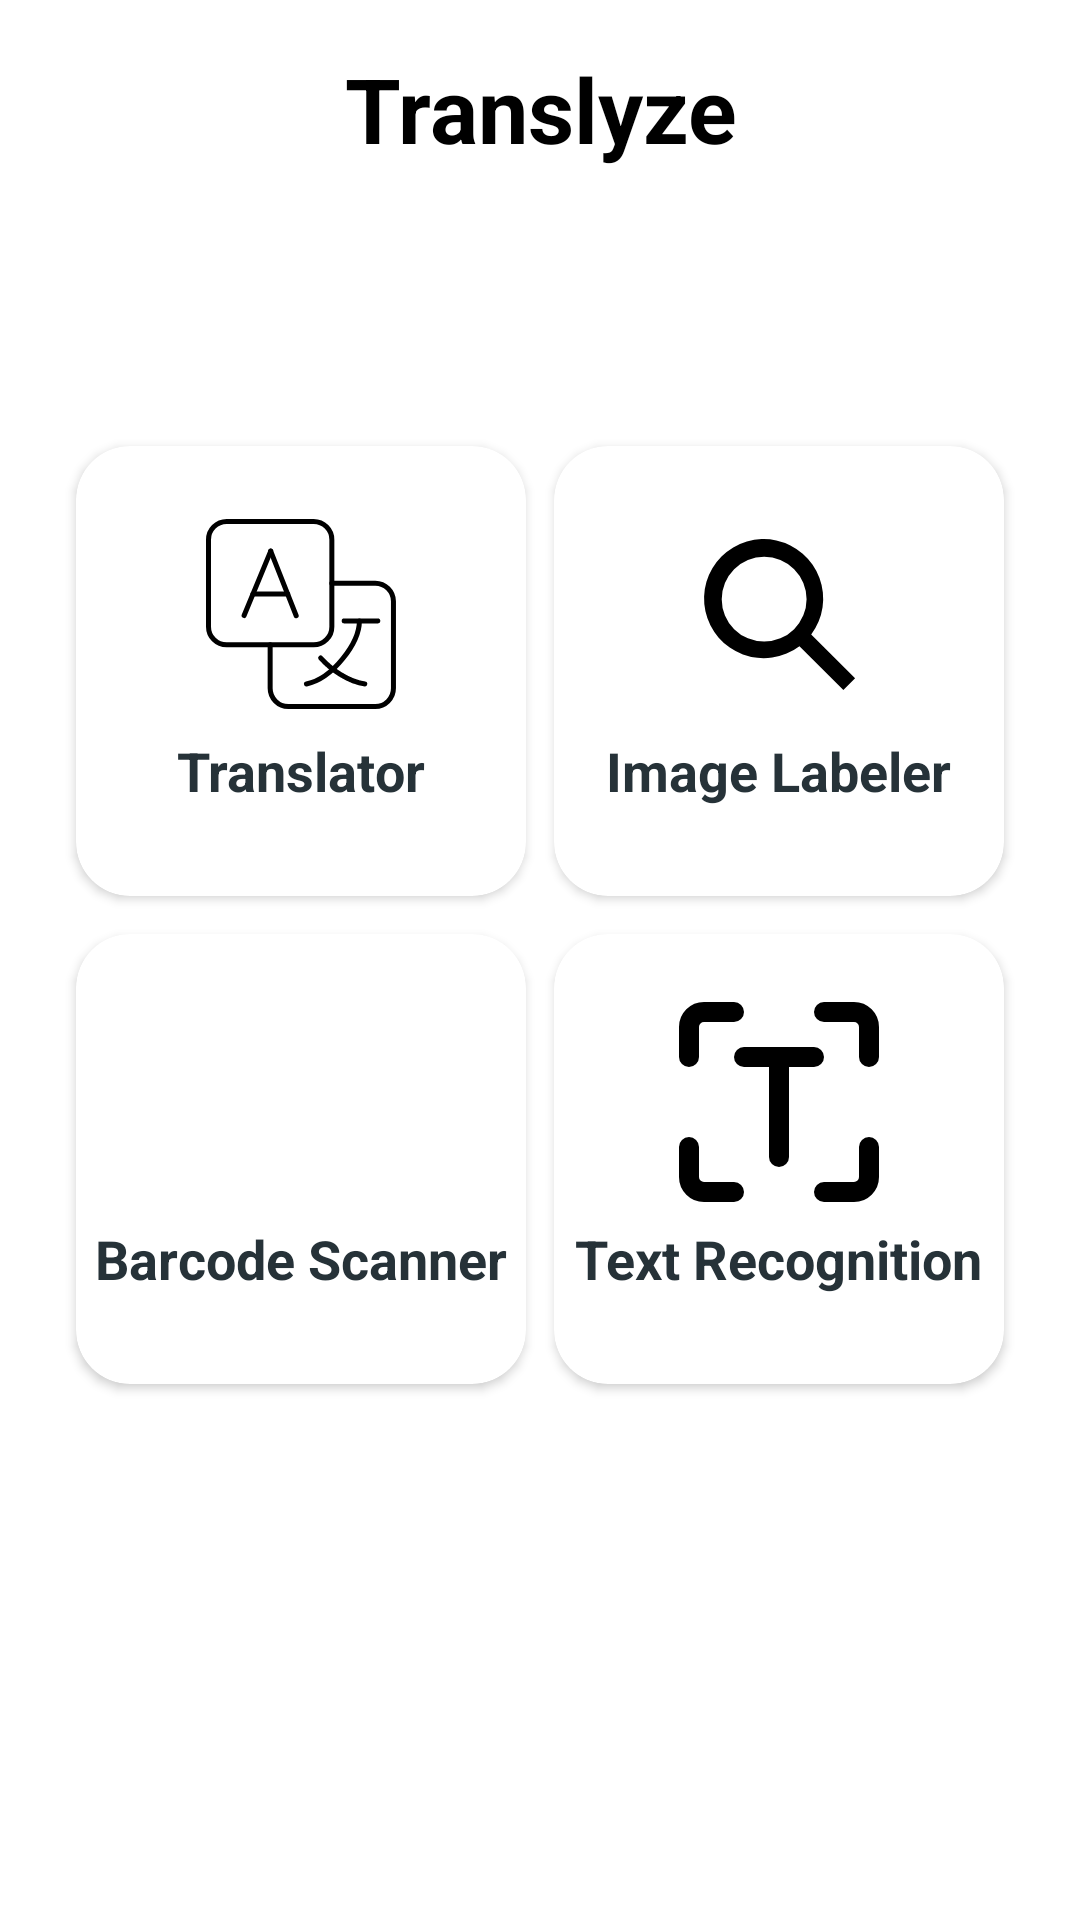

Icons on this 1080*1920 Android screen, each with its box as {"left": x1, "top": y1, "right": x2, "bottom": y2}:
magnifying glass: {"left": 704, "top": 539, "right": 855, "bottom": 690}
